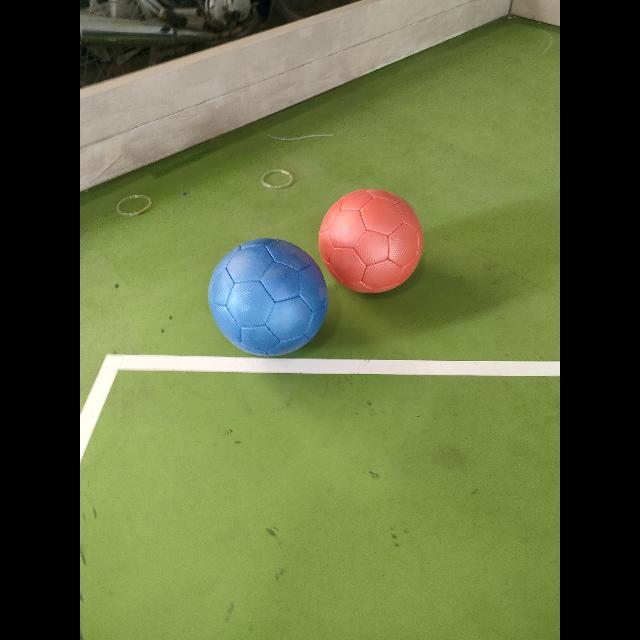B: (208, 238, 328, 356)
R: (319, 190, 423, 292)
